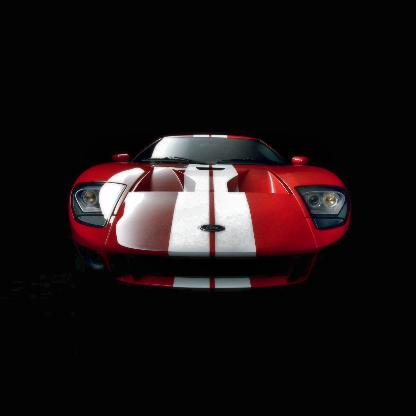Ford GT Coupe 2006: (67, 135, 357, 292)
